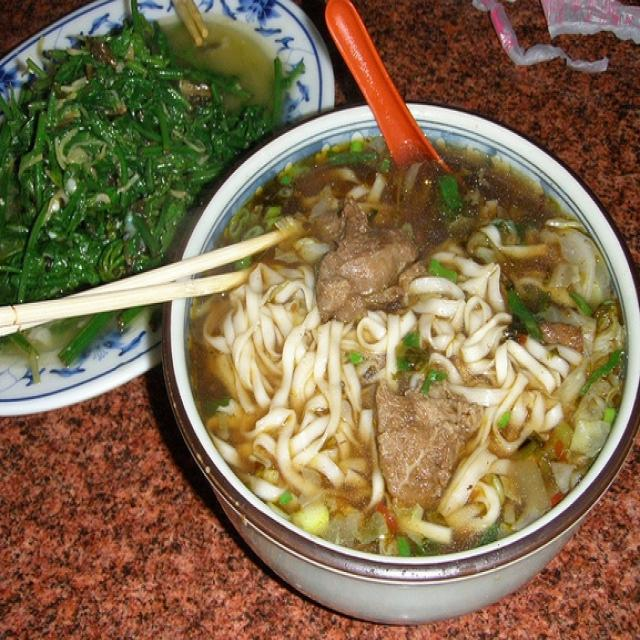面条主食: (170, 87, 629, 572)
